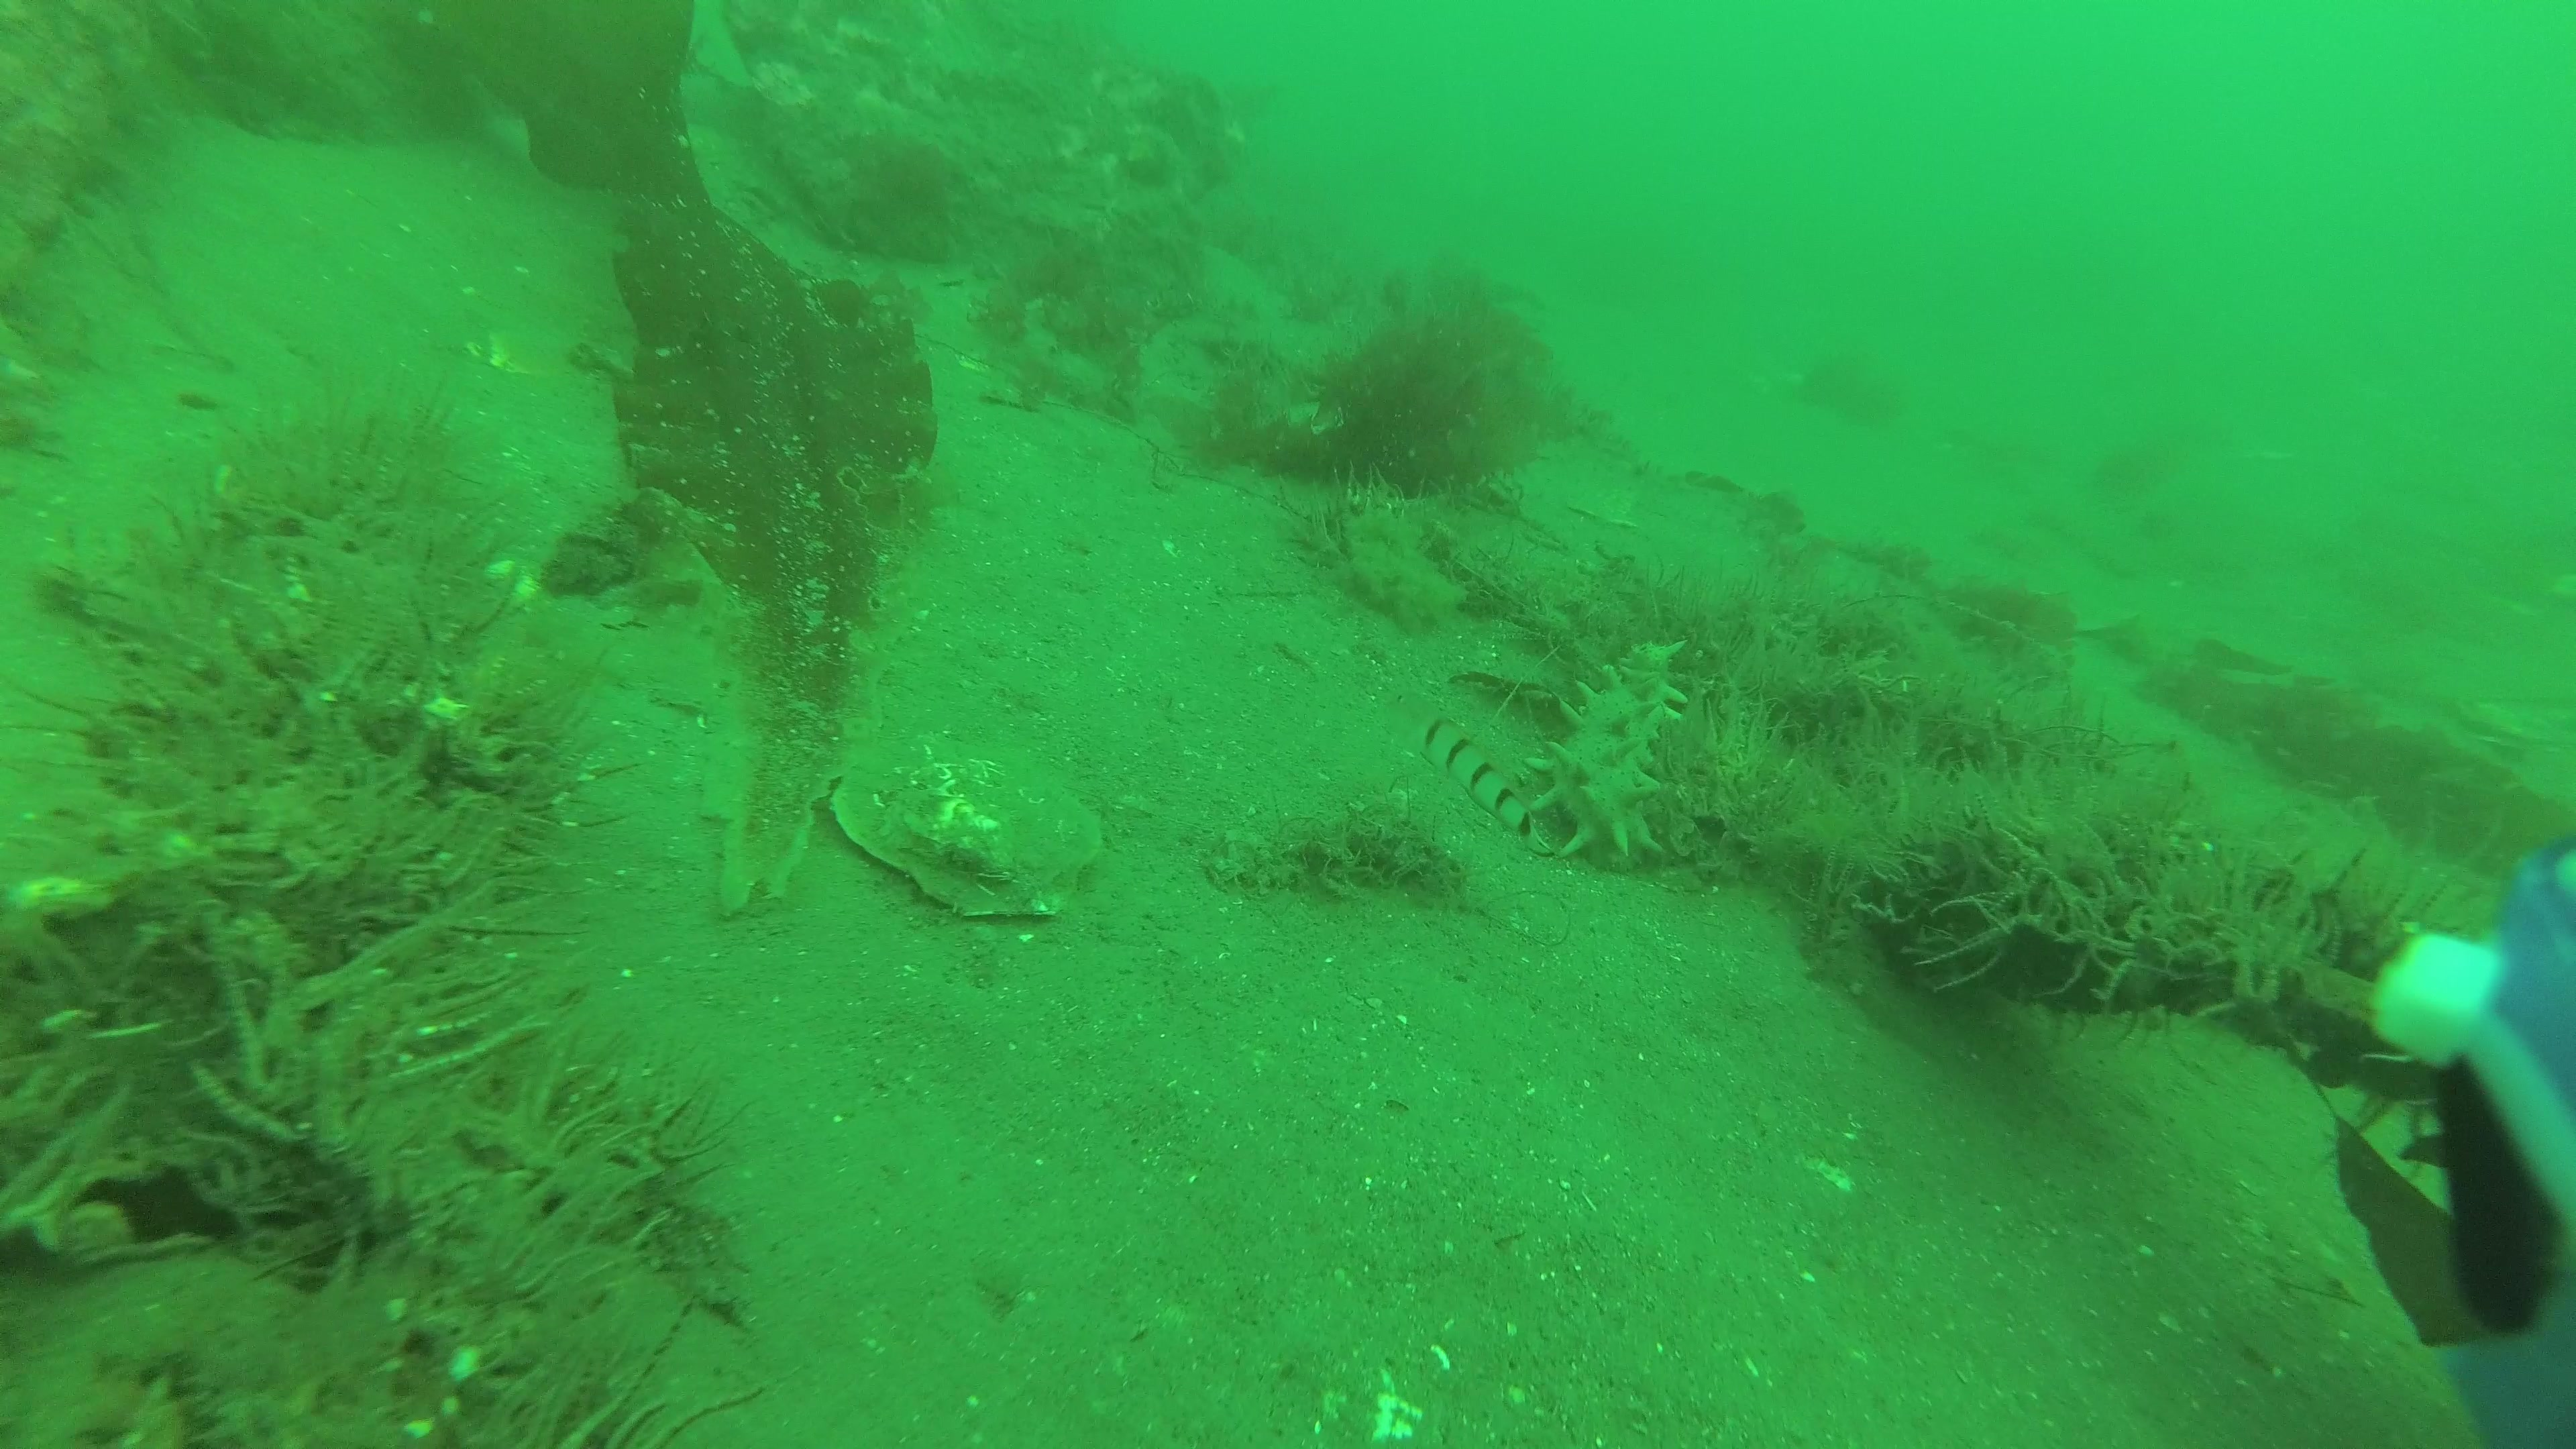holothurian: (1527, 623, 1693, 865)
scallop: (830, 731, 1115, 924)
